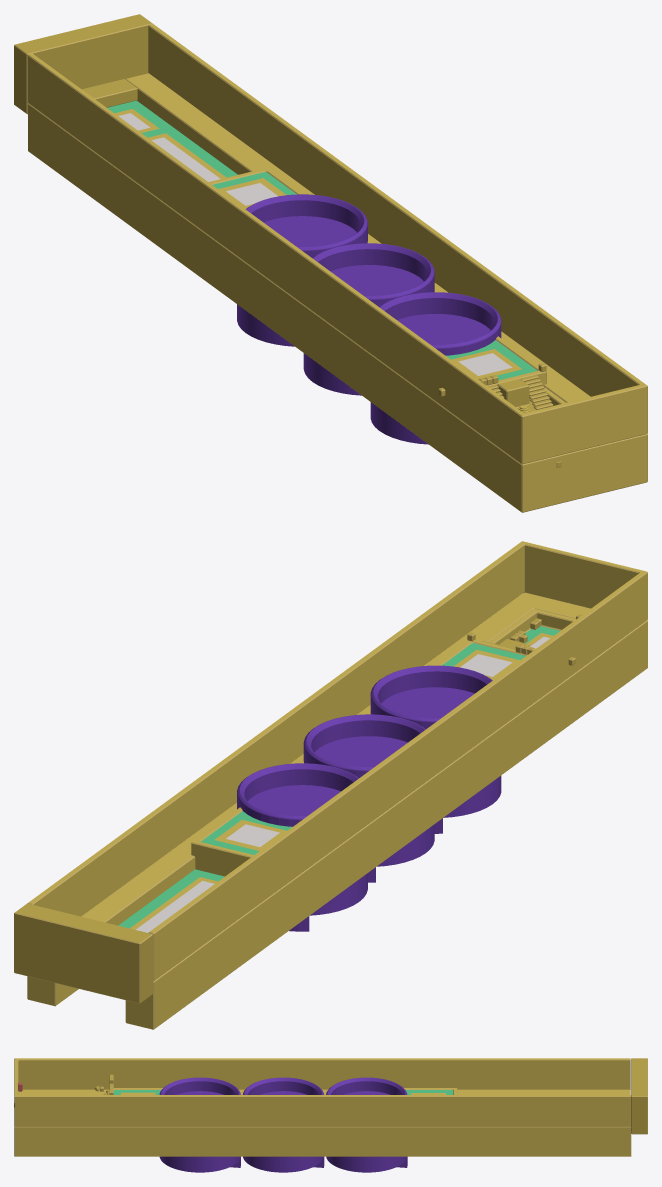
File: Ground.fbx
3 views of the same model, one above another, from view 1: azimuth 30°, elevation 25°; view 2: azimuth 150°, elevation 25°; view 3: azimuth 270°, elevation 25° (orthographic). The views are drawn at different scales.
Visible parts, largest first — view 1: polySurface125_polySurface113, polySurface125_polySurface125, Test142, pCylinder5, pCylinder6, pCylinder7, polySurface125_polySurface121, pCube67, pCube64, polySurface125_polySurface124, pCube66, pCube68 (+1 smaller); view 2: polySurface125_polySurface113, polySurface125_polySurface125, Test142, pCylinder7, pCylinder5, pCylinder6, polySurface125_polySurface121, pCube67, pCube66, polySurface125_polySurface124, pCube64, polySurface125_polySurface126; view 3: polySurface125_polySurface113, polySurface125_polySurface125, polySurface125_polySurface121, pCylinder7, pCylinder6, pCylinder5, polySurface125_polySurface124, Test142, pCube64, pCube66.
Boxes of the visible parts, left/top/right/bottom form: polySurface125_polySurface113: left=28, top=24, right=647, bottom=463; polySurface125_polySurface125: left=28, top=73, right=647, bottom=512; Test142: left=14, top=14, right=151, bottom=113; pCylinder5: left=370, top=292, right=501, bottom=444; pCylinder6: left=303, top=243, right=434, bottom=395; pCylinder7: left=237, top=194, right=367, bottom=346; polySurface125_polySurface121: left=28, top=25, right=647, bottom=464; pCube67: left=141, top=126, right=237, bottom=181; pCube64: left=446, top=340, right=537, bottom=380; polySurface125_polySurface124: left=28, top=79, right=647, bottom=512; pCube66: left=212, top=172, right=296, bottom=208; pCube68: left=107, top=100, right=170, bottom=132; polySurface125_polySurface113: left=28, top=541, right=647, bottom=980; polySurface125_polySurface125: left=27, top=592, right=647, bottom=1029; Test142: left=14, top=903, right=152, bottom=1002; pCylinder7: left=237, top=763, right=367, bottom=931; pCylinder5: left=370, top=665, right=501, bottom=833; pCylinder6: left=303, top=714, right=434, bottom=882; polySurface125_polySurface121: left=27, top=544, right=647, bottom=981; pCube67: left=118, top=869, right=224, bottom=932; pCube66: left=201, top=811, right=292, bottom=854; polySurface125_polySurface124: left=27, top=608, right=647, bottom=1029; pCube64: left=442, top=643, right=525, bottom=679; polySurface125_polySurface126: left=191, top=807, right=253, bottom=876; polySurface125_polySurface113: left=15, top=1058, right=630, bottom=1126; polySurface125_polySurface125: left=15, top=1089, right=630, bottom=1156; polySurface125_polySurface121: left=14, top=1058, right=631, bottom=1126; pCylinder7: left=326, top=1077, right=407, bottom=1172; pCylinder6: left=243, top=1077, right=324, bottom=1172; pCylinder5: left=159, top=1077, right=240, bottom=1172; polySurface125_polySurface124: left=14, top=1090, right=631, bottom=1156; Test142: left=632, top=1058, right=647, bottom=1133; pCube64: left=113, top=1090, right=161, bottom=1094; pCube66: left=405, top=1090, right=453, bottom=1094.
Bounding box in the file's own units: 2272 × 2343 × 15306.
